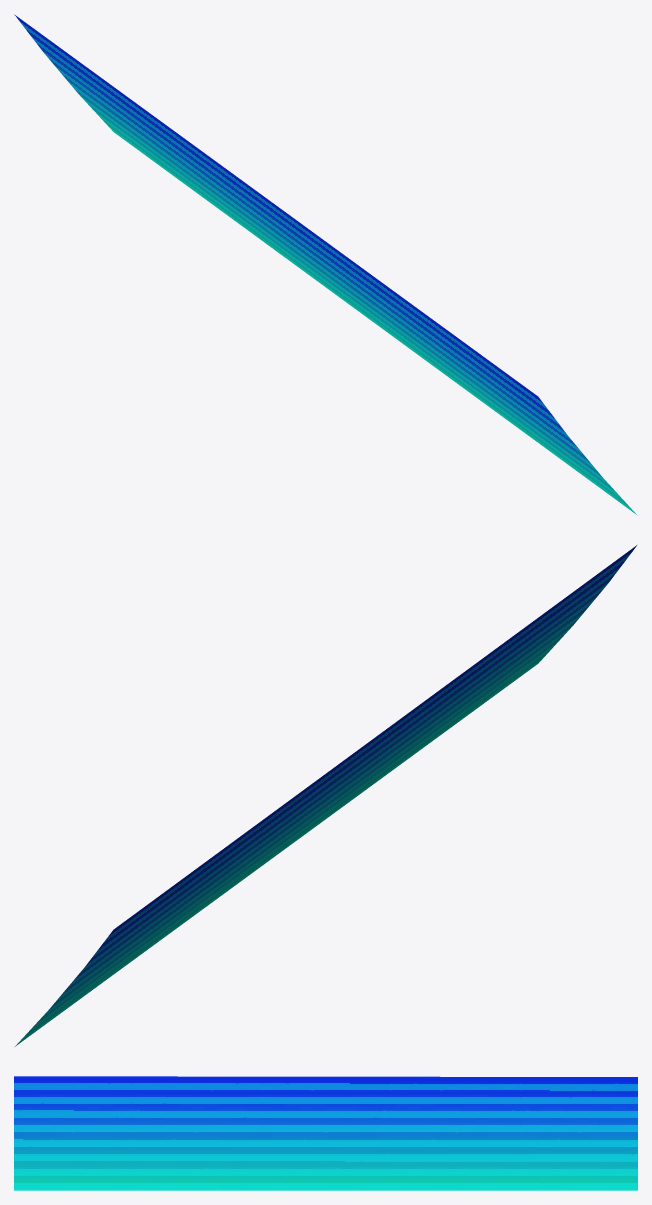
Rendered from stadium_gliderOn.glb.
3 renders of one model, top to bottom at view 1: azimuth 30°, elevation 25°; view 2: azimuth 150°, elevation 25°; view 3: azimuth 270°, elevation 25°, orthographic. The views are drawn at different scales.
Visible parts, largest first — view 1: Object_3; view 2: Object_3; view 3: Object_3.
Boxes of the visible parts, left/top/right/bottom form: Object_3: left=14, top=14, right=637, bottom=515; Object_3: left=15, top=545, right=636, bottom=1046; Object_3: left=14, top=1076, right=637, bottom=1190.
Size of the model in its own units: 0.8063 by 1.11 by 7.35.
Materials: 1 (1 with a texture image).
